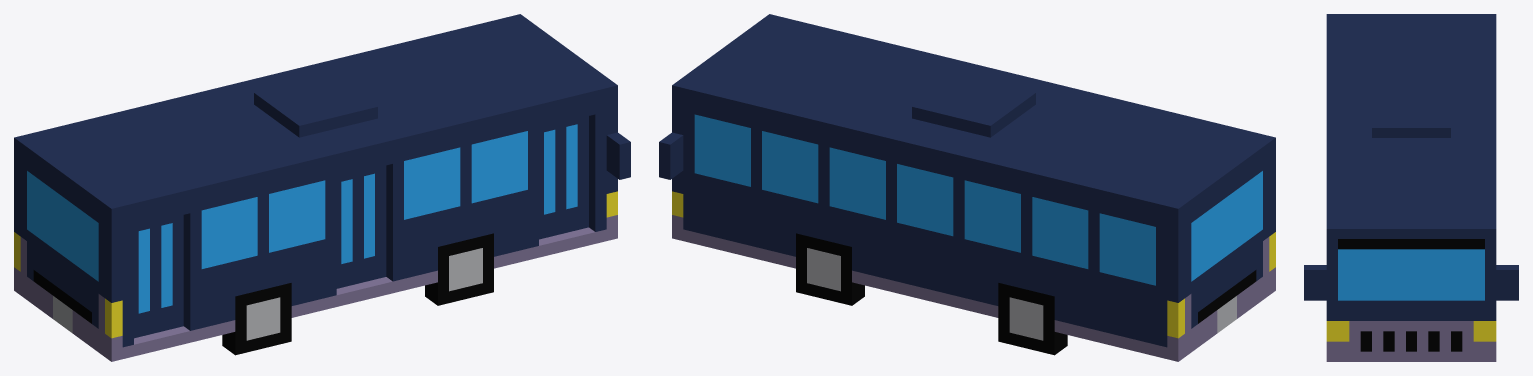
The model's file is bus_c.obj.
The picture shows the model from 3 angles, left to right: view 1: azimuth 30°, elevation 25°; view 2: azimuth 150°, elevation 25°; view 3: azimuth 270°, elevation 25°; orthographic projection. The views are drawn at different scales.
Bounding box in the file's own units: 4.5 × 1.6 × 1.9.
Materials: 1 (1 with a texture image).
